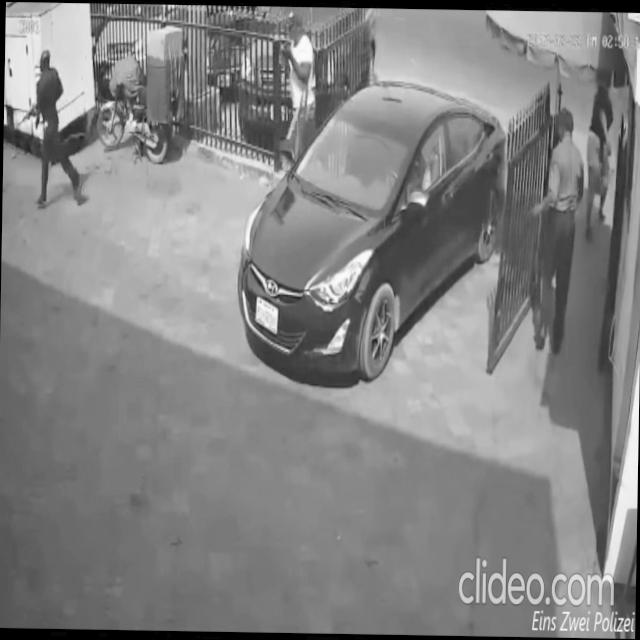gun: (14, 97, 44, 130), (277, 38, 294, 78)
person: (526, 103, 586, 357), (580, 72, 616, 243)
person with a gun: (11, 46, 90, 212), (276, 9, 317, 169)
